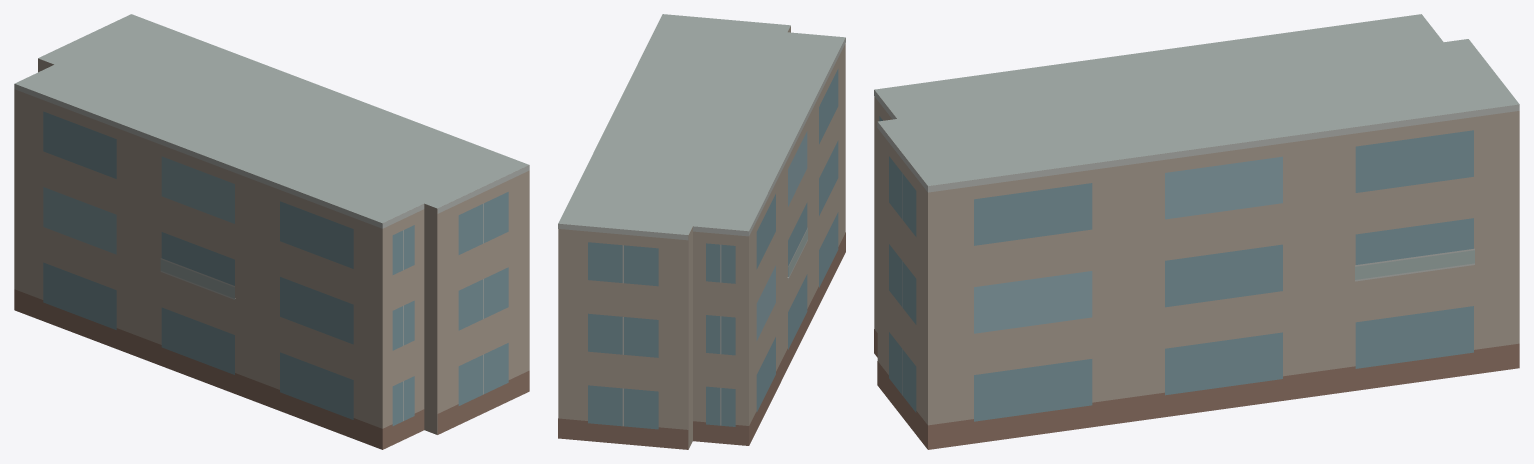
The model's file is survey-upis-32745752.glb.
3 views of the same model, side by side, from view 1: azimuth 30°, elevation 25°; view 2: azimuth 150°, elevation 25°; view 3: azimuth 270°, elevation 25° (orthographic). The views are drawn at different scales.
Visible parts, largest first — view 1: survey-upis-32745752.tmp; view 2: survey-upis-32745752.tmp; view 3: survey-upis-32745752.tmp.
Part boxes in pixels (x1,y1,x2,y2): survey-upis-32745752.tmp: (14, 14, 529, 449); survey-upis-32745752.tmp: (558, 14, 845, 449); survey-upis-32745752.tmp: (874, 14, 1519, 449).
Size of the model in its own units: 14.15 by 10.1 by 22.42.
